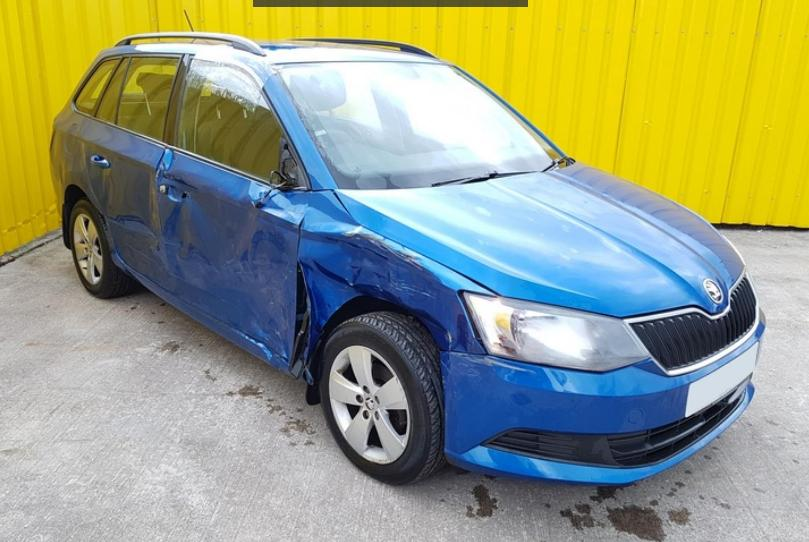Back-door: (84, 54, 185, 289)
Back-wheel: (69, 197, 139, 299)
Back-window: (96, 57, 180, 141), (76, 60, 118, 113)
Fender: (294, 188, 502, 378)
Front-bumper: (442, 299, 767, 485)
Front-door: (154, 55, 311, 359)
Front-wheel: (320, 312, 447, 485)
Front-window: (177, 59, 283, 181)
Grille: (622, 266, 755, 372)
Headlight: (462, 291, 651, 373), (721, 234, 745, 266)
Hood: (333, 163, 746, 317)
Quarter-panel: (50, 101, 102, 217)
Rocker-panel: (109, 251, 292, 375)
Roof: (116, 31, 452, 65)
Windshield: (269, 61, 575, 189)
